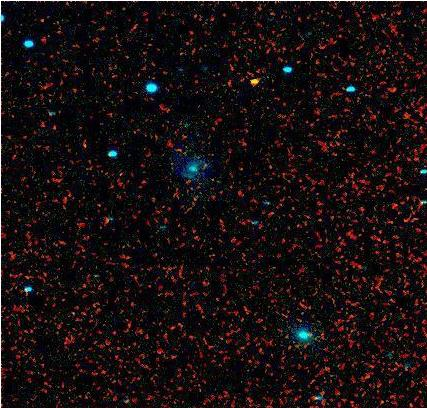star: (238, 66, 268, 96)
